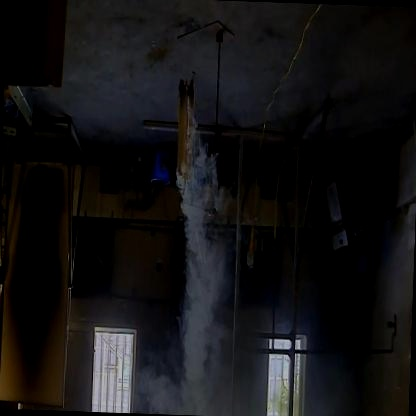smoke: (133, 102, 236, 413)
